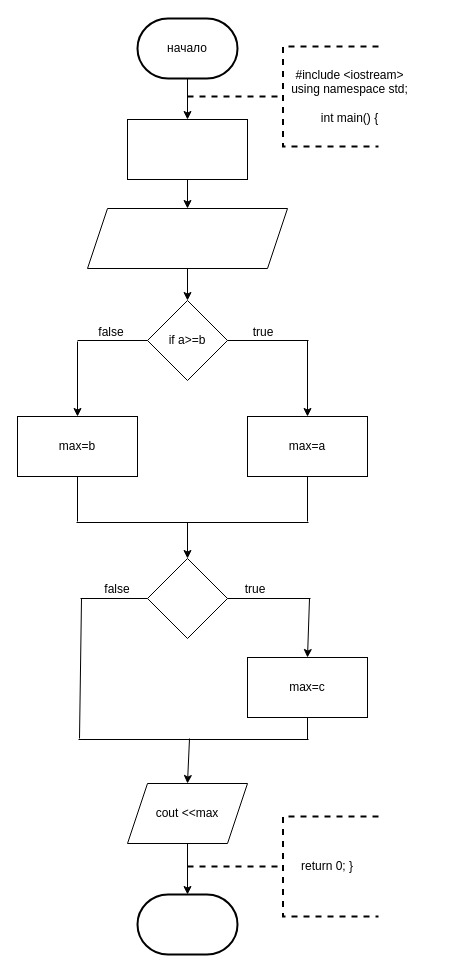
This 451x972 diagram has some shape labels left out. The centre of each missing label's shape, as x and y in pixels:
"cin>>a>>b>>c>>max" goes at pixel 187 238.
"if c>max" goes at pixel 187 598.
"int a,b,c,max" goes at pixel 187 149.
"конец" goes at pixel 187 924.
